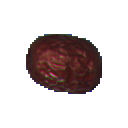gd: (16, 23, 121, 113)
